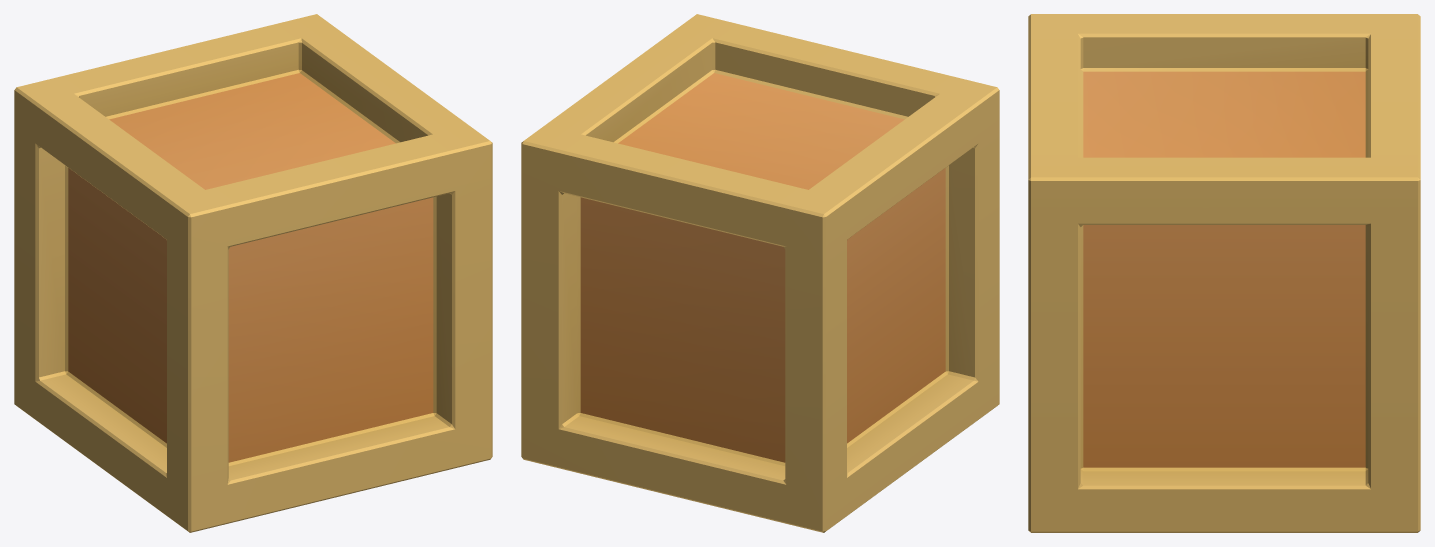
File: Crate 1.fbx
3 renders of one model, left to right at view 1: azimuth 30°, elevation 25°; view 2: azimuth 150°, elevation 25°; view 3: azimuth 270°, elevation 25°, orthographic. The views are drawn at different scales.
Parts seen in each view (by area): view 1: crate.001; view 2: crate.001; view 3: crate.001.
Part boxes in pixels (box(x1,y1,x2,y2)): crate.001: box(14, 14, 492, 532); crate.001: box(521, 14, 999, 532); crate.001: box(1028, 14, 1420, 532).
Bounding box in the file's own units: 84.03 × 84.03 × 84.03.
